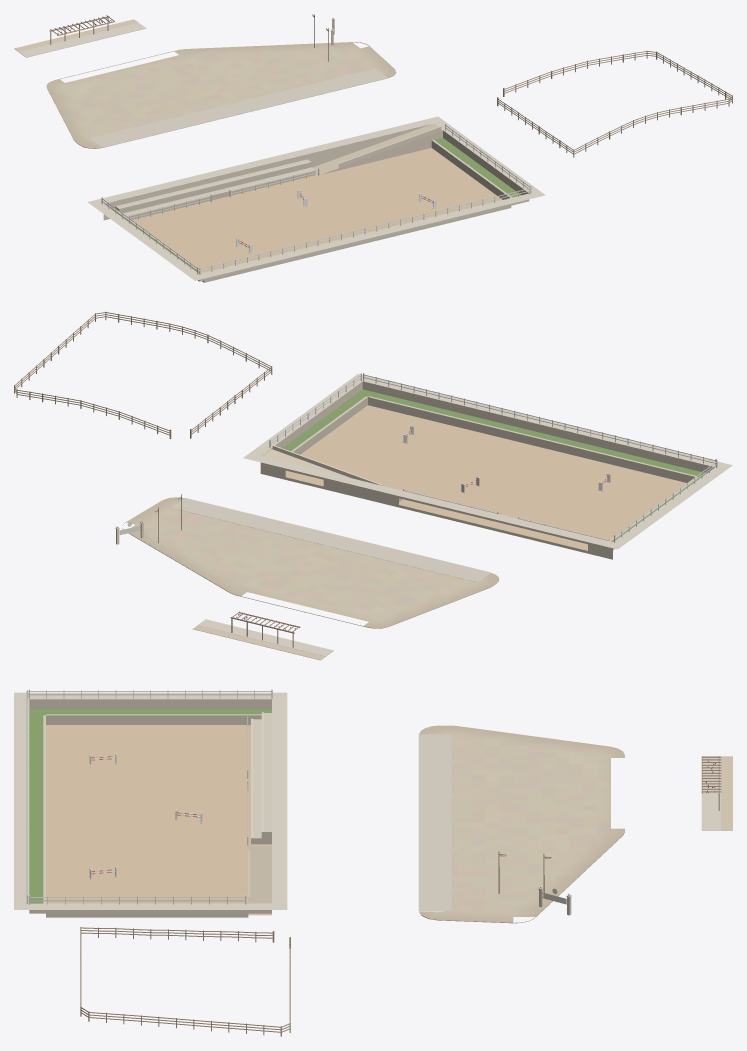
Rendered from SM_BM_BE_2_Grounds.glb.
3 views of the same model, one above another, from view 1: azimuth 30°, elevation 25°; view 2: azimuth 150°, elevation 25°; view 3: azimuth 270°, elevation 25° (orthographic). The views are drawn at different scales.
Visible parts, largest first — view 1: SM_BM_BE_2_Grounds; view 2: SM_BM_BE_2_Grounds; view 3: SM_BM_BE_2_Grounds.
Part boxes in pixels (<box>): SM_BM_BE_2_Grounds: <box>14,14,732,282</box>; SM_BM_BE_2_Grounds: <box>14,311,732,660</box>; SM_BM_BE_2_Grounds: <box>14,689,732,1036</box>.
Size of the model in its own units: 119 by 10.1 by 103.
